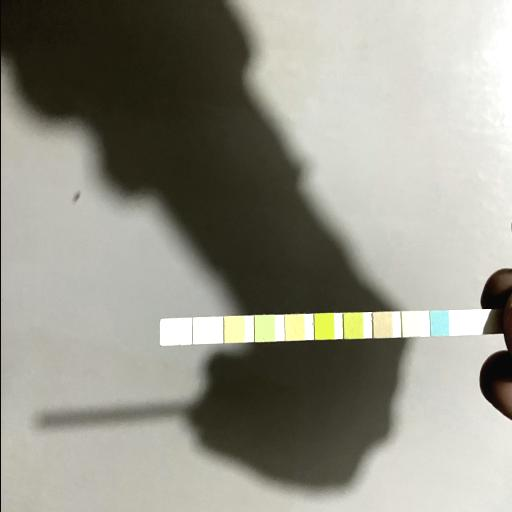Bilirubin: (401, 312, 419, 336)
Blood: (314, 314, 334, 340)
Glucose: (430, 312, 448, 336)
Ketone: (372, 312, 390, 338)
Leukocytes: (159, 318, 181, 346)
Nitrite: (192, 318, 213, 344)
Protein: (254, 316, 274, 342)
SpGravity: (343, 313, 362, 339)
Urobilinogen: (224, 316, 244, 342)
pH: (284, 314, 304, 340)
strip: (158, 311, 488, 347)
